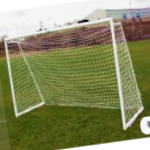goals: (5, 16, 144, 131)
